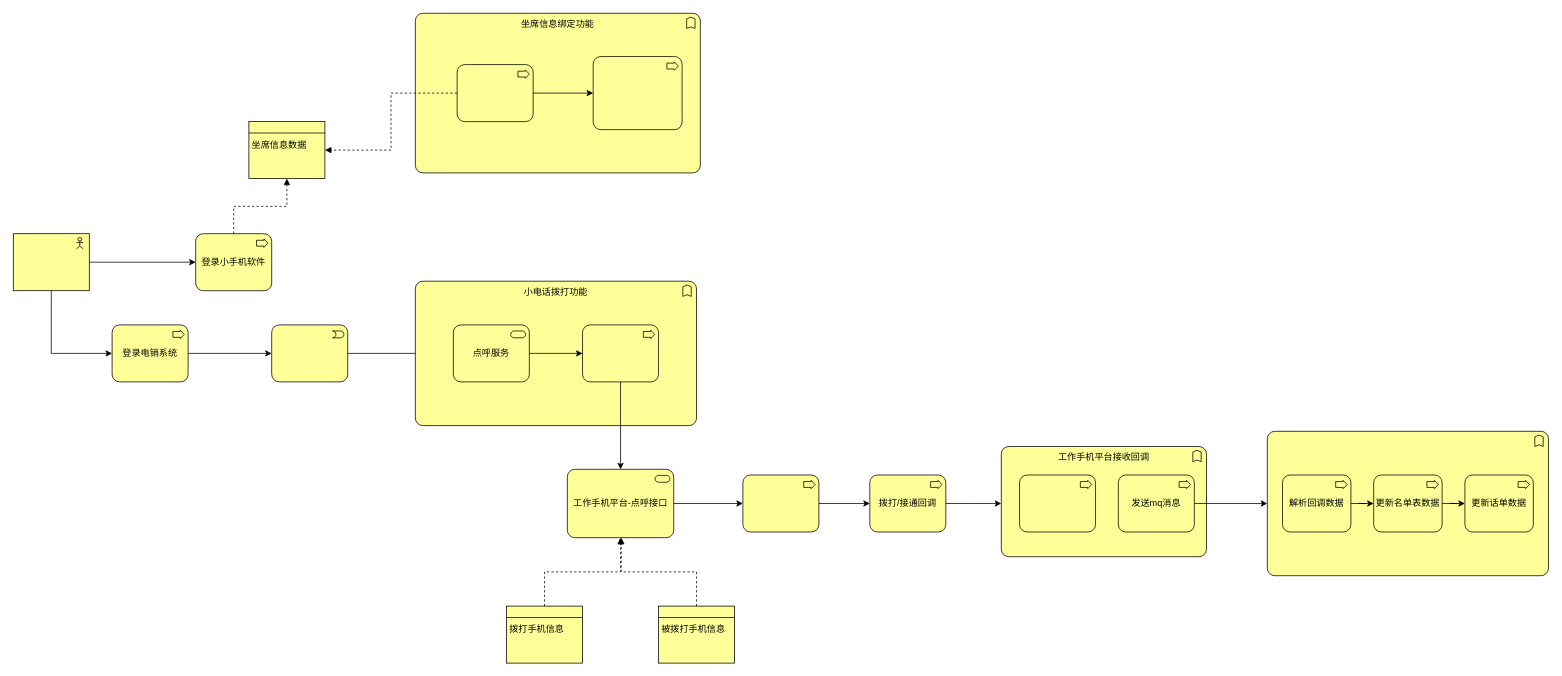
This 1562x676 diagram has some shape labels left out. The shapes that lost their labels are listed below. From the top down, each one's box as (x1, y1, x2, y2) in pixels, then its label:
(456, 64, 533, 122): 提供电销坐席信息 -excel文件
(592, 56, 682, 130): 导入到MBS指掌易后台进行坐席信息绑定
(13, 233, 89, 291): 坐席
(271, 324, 348, 382): 坐席发起拨打请求
(582, 324, 659, 382): 构造拨打请求入参&随路信息
(742, 474, 819, 532): 调供应商接口发起点呼请求
(1019, 474, 1096, 532): 处理回调数据
(1267, 431, 1548, 576): 消费回调数据
